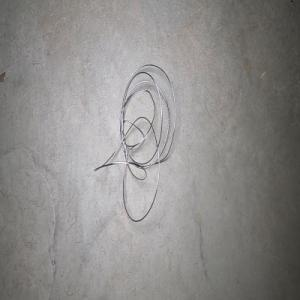Wire: (93, 64, 175, 222)
